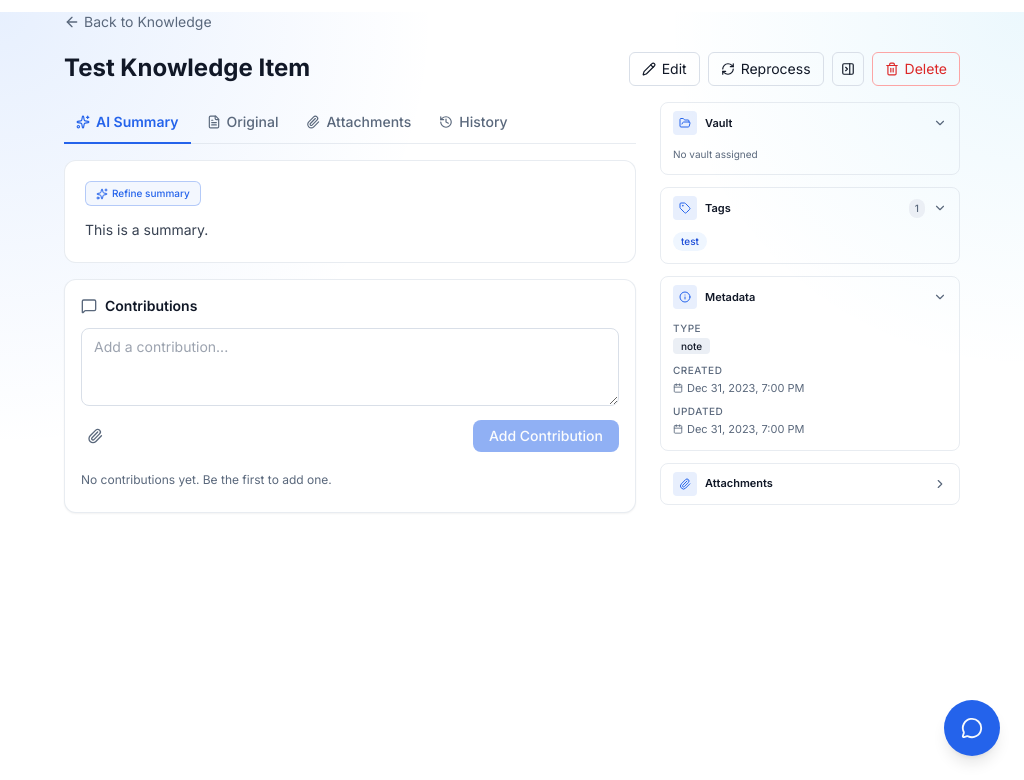
Test: KnowledgeChatPanel › Detail Level Picker › Should_ShowThreeDetailLevelOptions_WhenChatPanelOpened
Expected: the heading "Test Knowledge Item" is shown, [64, 52, 310, 84]
Click the button titled "Chat with this knowledge item": [972, 728] box [944, 700, 1000, 756]
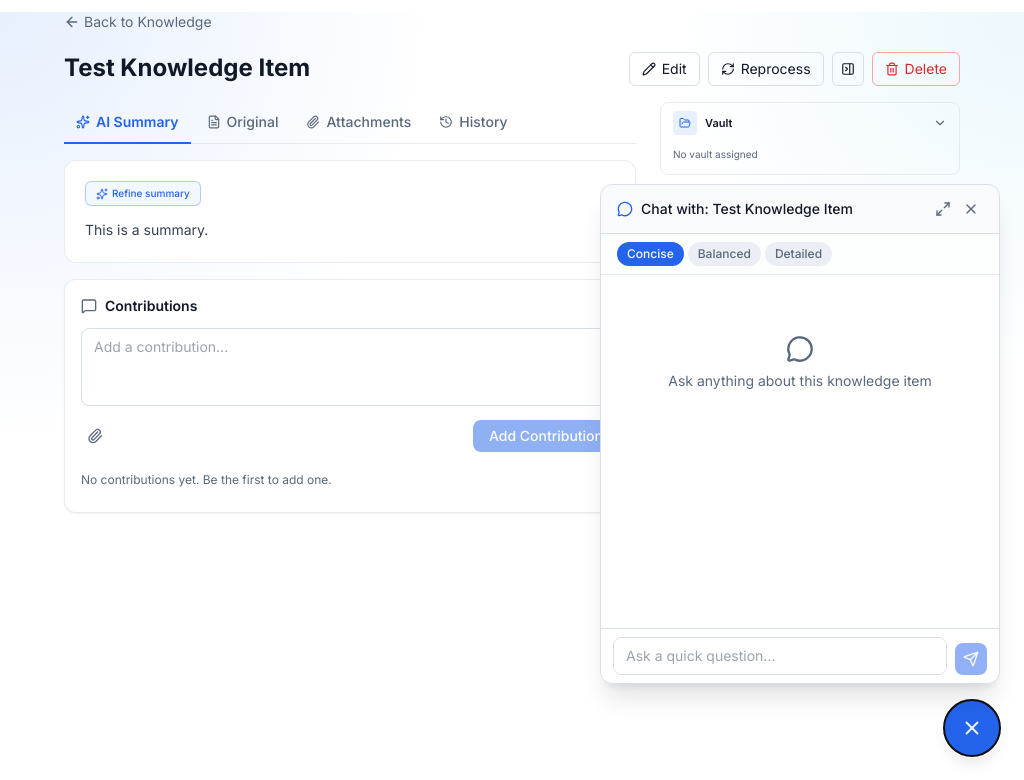
Expected: the button "Concise" is shown, [617, 242, 684, 266]
Expected: the button "Balanced" is shown, [688, 242, 761, 266]
Expected: the button "Detailed" is shown, [765, 242, 832, 266]
